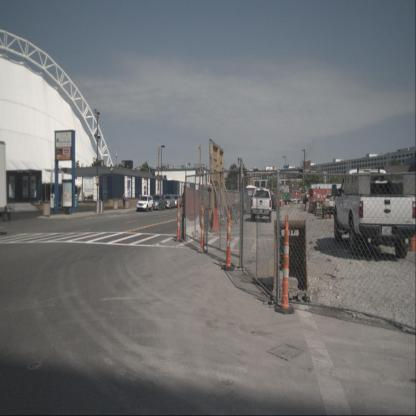human-pedestrian-adult: (122, 192, 126, 210)
movable_object-barrier: (184, 212, 202, 242), (211, 208, 220, 231)
movable_object-trafficcone: (274, 214, 294, 314), (221, 204, 235, 272), (197, 201, 207, 254), (174, 198, 182, 242)
vehicle-car: (136, 195, 154, 212), (150, 195, 166, 210), (265, 194, 276, 212), (163, 194, 175, 209), (172, 194, 182, 208)
vehicle-truck: (334, 168, 415, 259), (250, 188, 272, 223)
